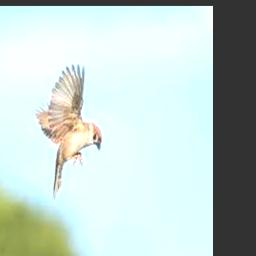Sparrow: (35, 64, 103, 199)
